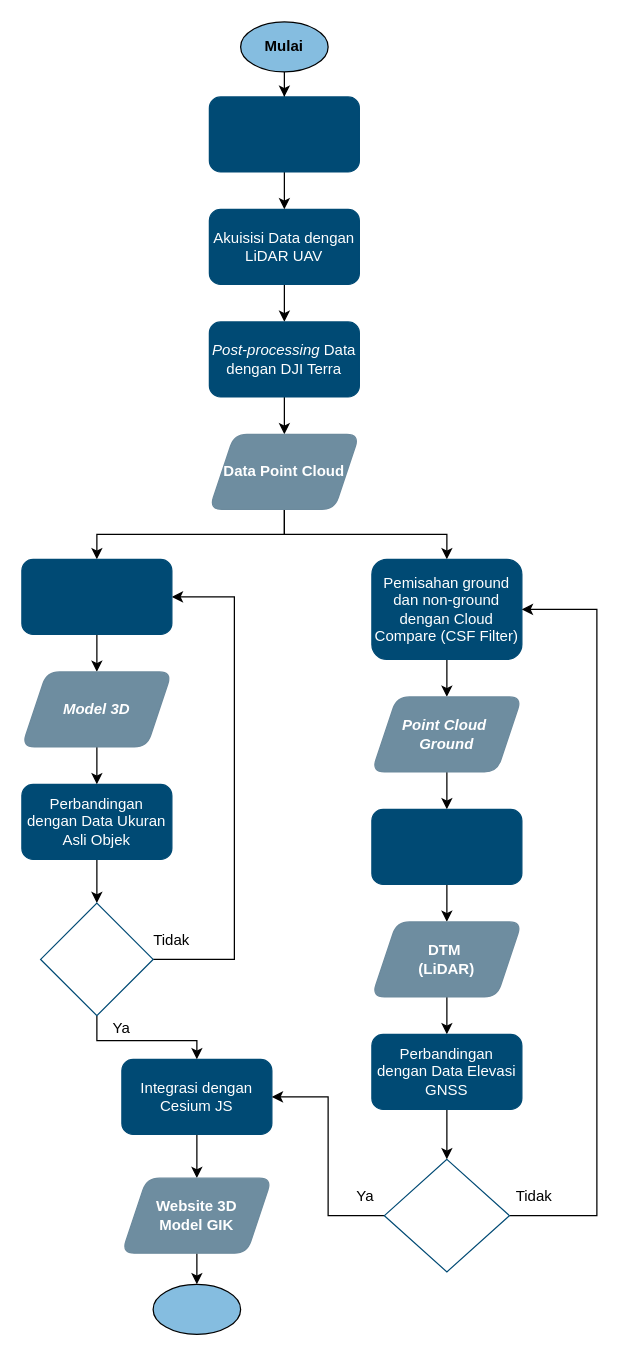
Image size: 629x1356. Some labels were removed from this diagram. The shapes that lost their labels are listed below. From the top down, each one's centre as x and y in pixels, then its label:
At (x=283, y=134): "Persiapan".
At (x=96, y=596): "Pemodelan 3D dengan SketchUp".
At (x=446, y=846): "Pembuatan DTM dengan Global Mapper (BMHF)".
At (x=96, y=959): "Memenuhi Akurasi?".
At (x=446, y=1215): "Cek RMSE Memenuhi?".
At (x=196, y=1308): "Selesai".
